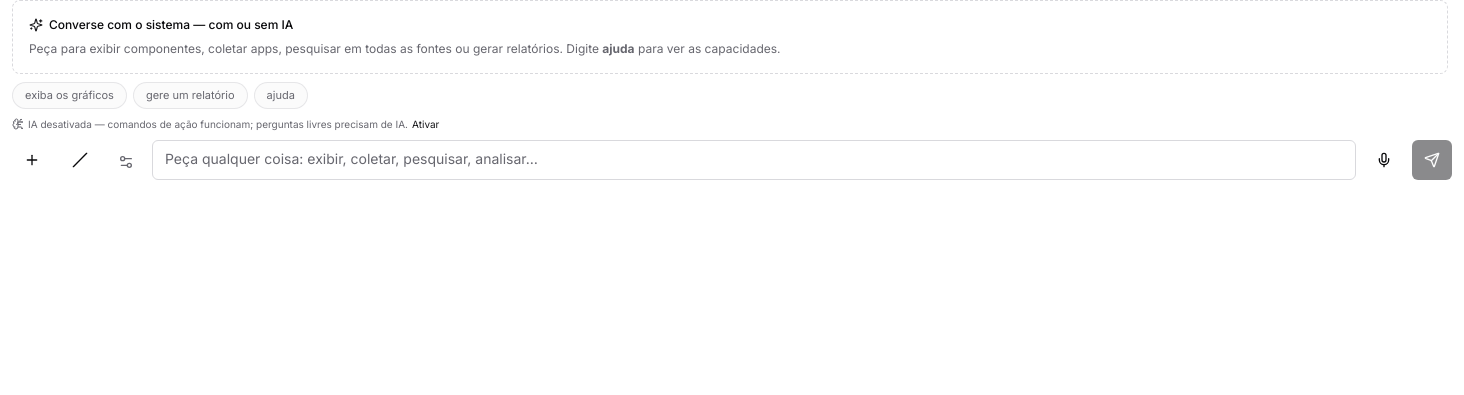
Test: UnifiedChatPanel — sem IA (ações locais) › "gere um relatório" com dataset vazio responde honesto
This screenshot has width=1464, height=395.
Step 1. Type "gere um relatório" into the text box named "Mensagem para a IA" → [754, 160], box [152,140,1356,180]
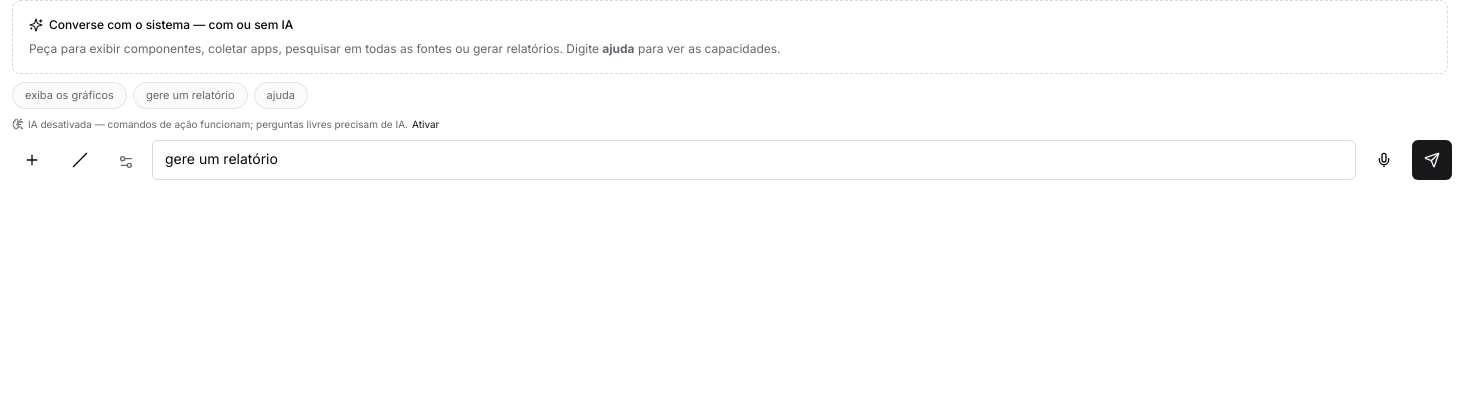
Step 2. Press Enter in the text box named "Mensagem para a IA", box [152,140,1356,180]
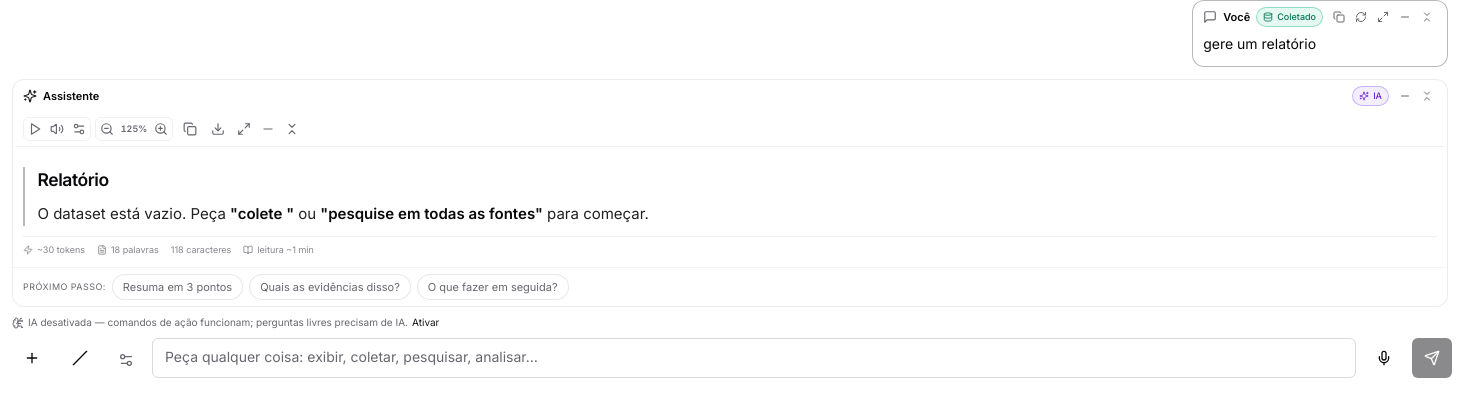
Expected: the text "dataset está vazio" is shown, [38,204,230,223]
